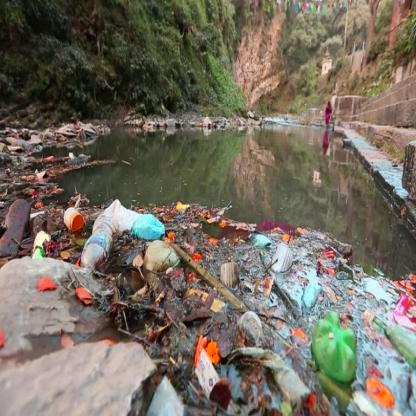Plastic: (310, 318, 360, 386), (364, 308, 416, 367), (0, 186, 29, 262), (81, 217, 116, 276), (273, 349, 307, 404), (130, 212, 174, 241), (271, 232, 294, 273), (240, 307, 263, 347), (31, 223, 56, 257)
Trash: (94, 196, 134, 224), (301, 275, 323, 311)
